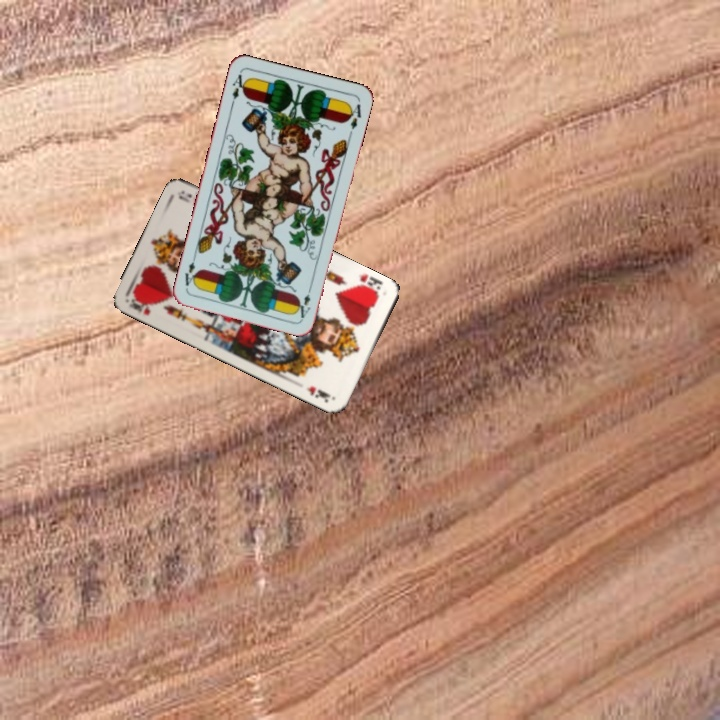EA: (227, 69, 249, 109), (296, 281, 314, 321)
HK: (353, 270, 386, 298), (125, 292, 156, 318)
